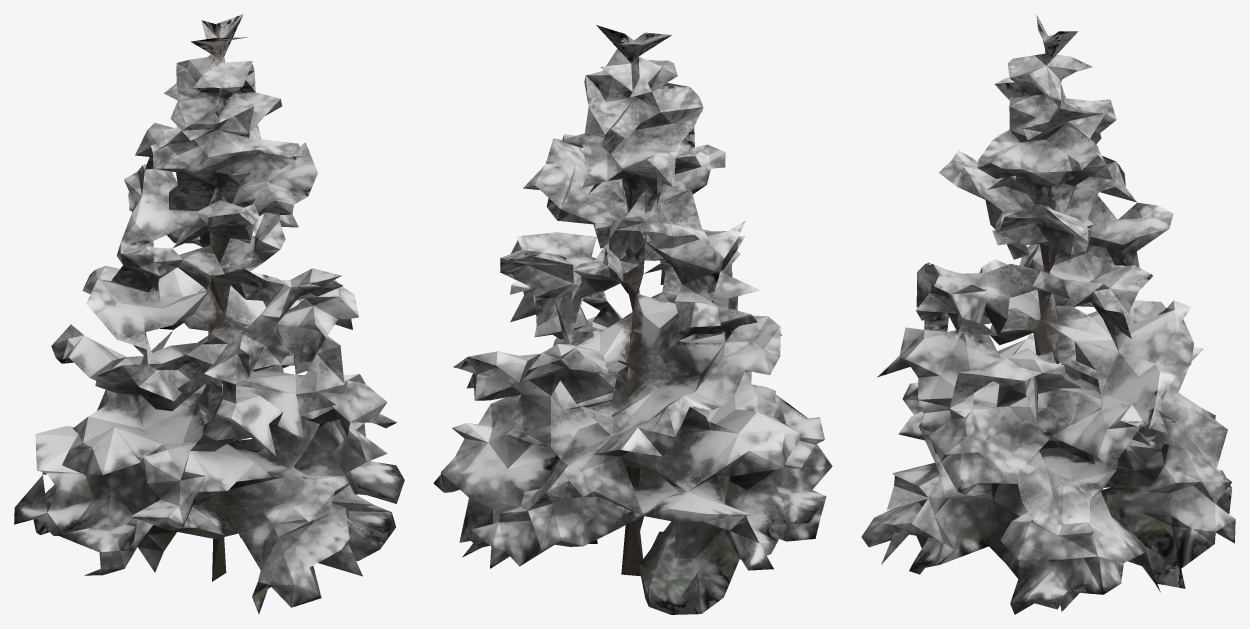
The model's file is tree1.glb.
The picture shows the model from 3 angles, left to right: view 1: azimuth 30°, elevation 25°; view 2: azimuth 150°, elevation 25°; view 3: azimuth 270°, elevation 25°; orthographic projection.
Visible parts, largest first — view 1: geometry_0; view 2: geometry_0; view 3: geometry_0.
Boxes of the visible parts, x1=… form: geometry_0: x1=14, y1=14, x2=404, y2=614; geometry_0: x1=433, y1=25, x2=832, y2=614; geometry_0: x1=861, y1=14, x2=1235, y2=614.
Bounding box in the file's own units: 0.6086 × 0.9067 × 0.5547.
1 material, 1 textured.
